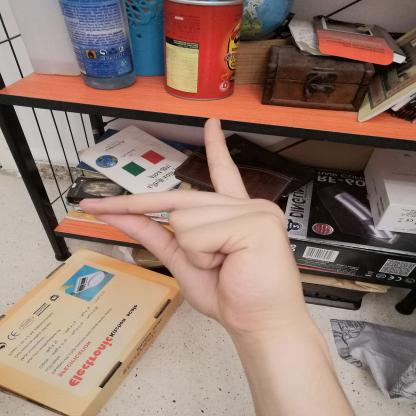TAA: (64, 107, 323, 342)
